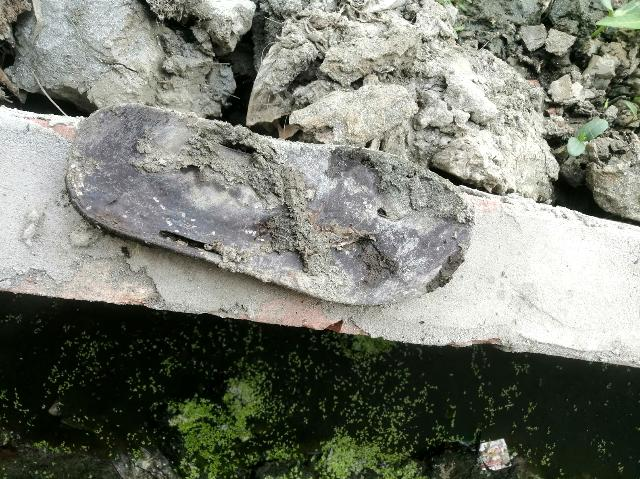sandal: (46, 94, 489, 331)
